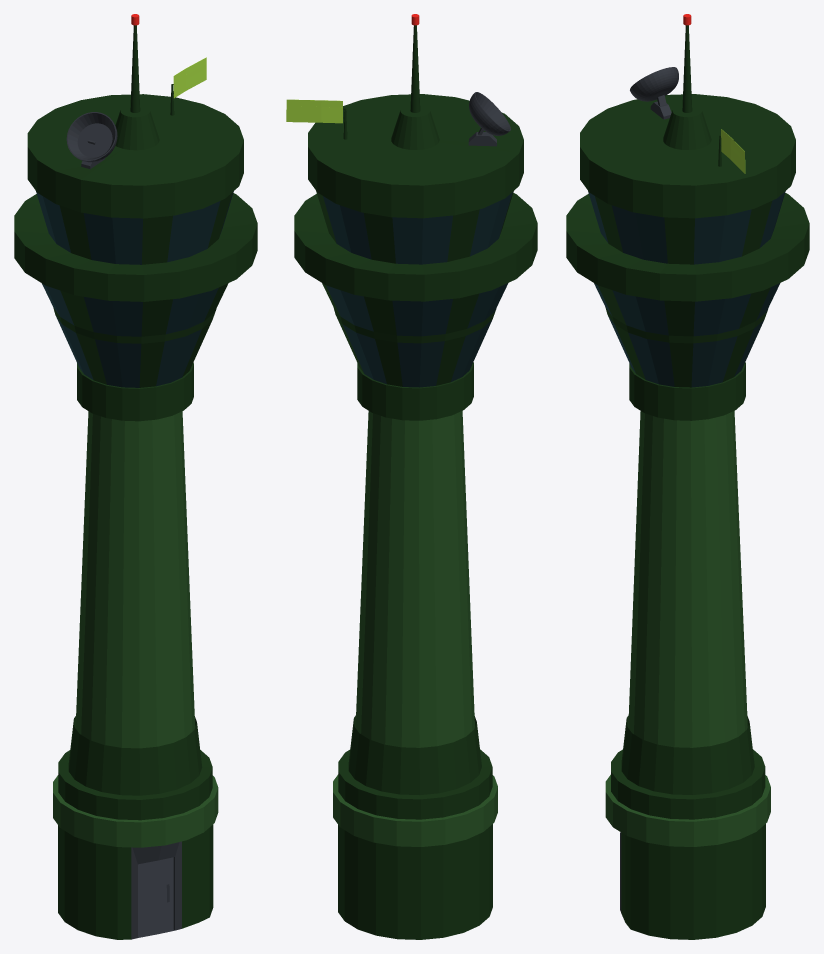
The model's file is Building_MilitaryTower.fbx.
3 views of the same model, side by side, from view 1: azimuth 30°, elevation 25°; view 2: azimuth 150°, elevation 25°; view 3: azimuth 270°, elevation 25° (orthographic).
Parts seen in each view (by area): view 1: Cylinder; view 2: Cylinder; view 3: Cylinder.
Part boxes in pixels (x1,y1,x2,y2): Cylinder: (14, 14, 257, 939); Cylinder: (286, 14, 537, 939); Cylinder: (566, 14, 809, 939).
Bounding box in the file's own units: 630 × 2539 × 628.
